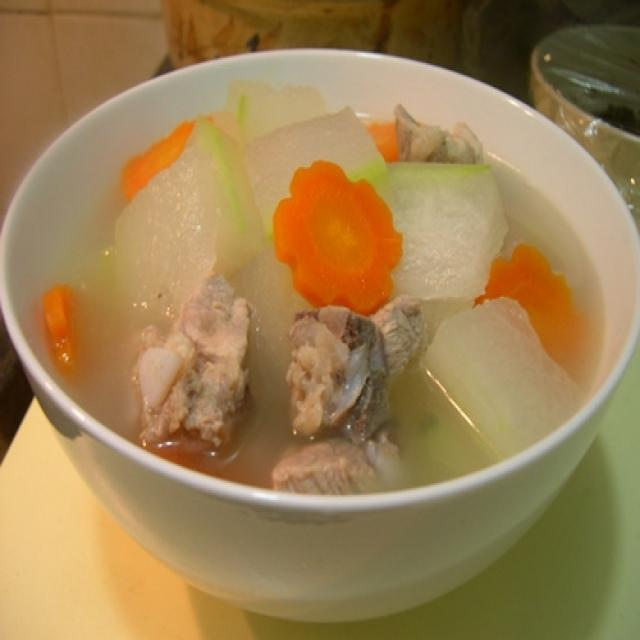汤锅炖物: (9, 29, 637, 608)
